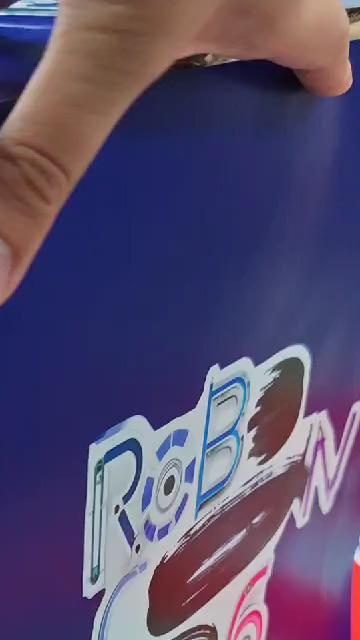B_R1: (83, 346, 359, 640)
